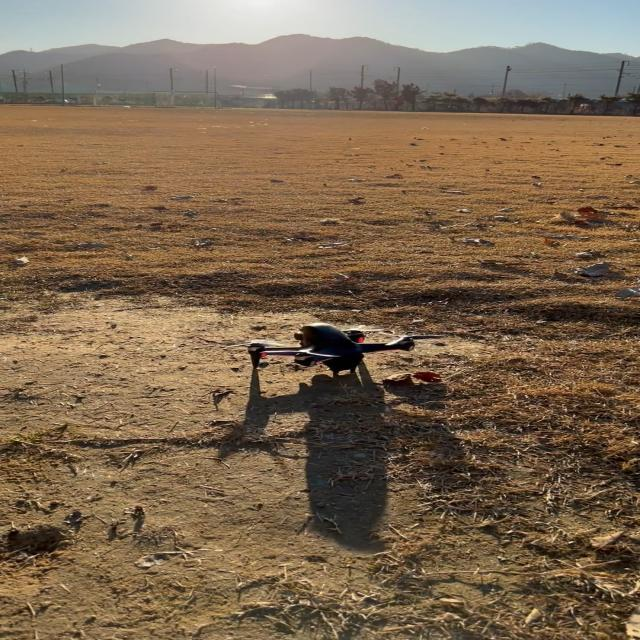drone: (222, 321, 444, 377)
